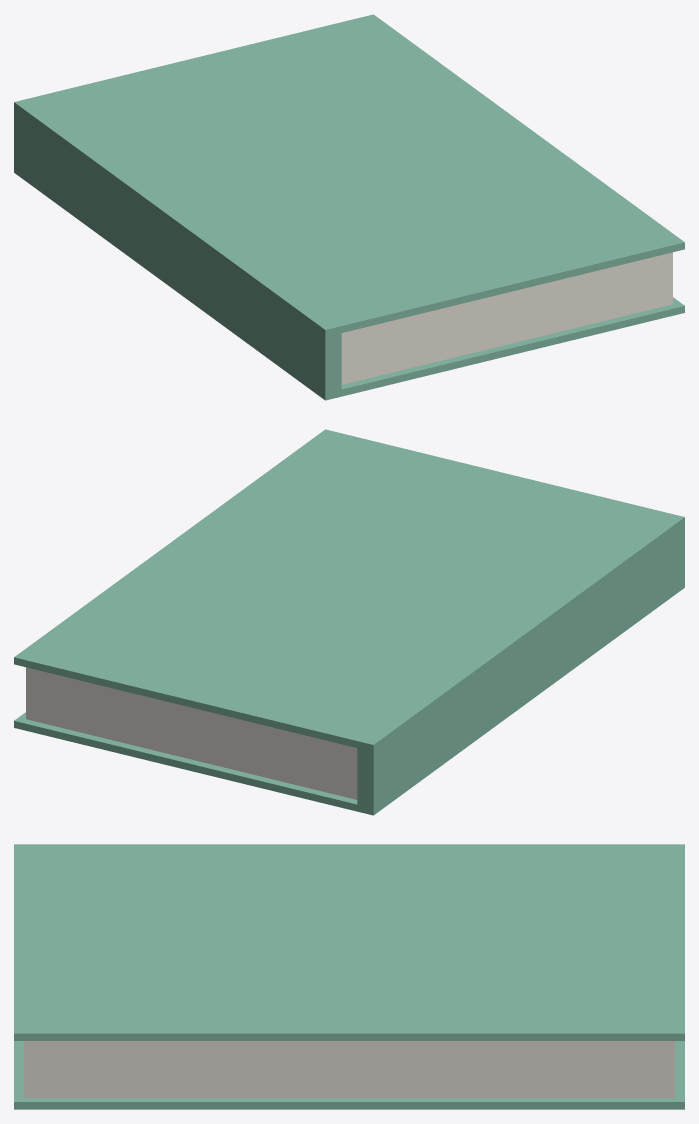
Rendered from book.glb.
3 renders of one model, top to bottom at view 1: azimuth 30°, elevation 25°; view 2: azimuth 150°, elevation 25°; view 3: azimuth 270°, elevation 25°, orthographic. The views are drawn at different scales.
Visible parts, largest first — view 1: book; view 2: book; view 3: book.
Part boxes in pixels (x1,y1,x2,y2): book: (14,14,684,400); book: (14,429,684,815); book: (14,844,684,1109).
Bounding box in the file's own units: 16 × 3 × 24.
